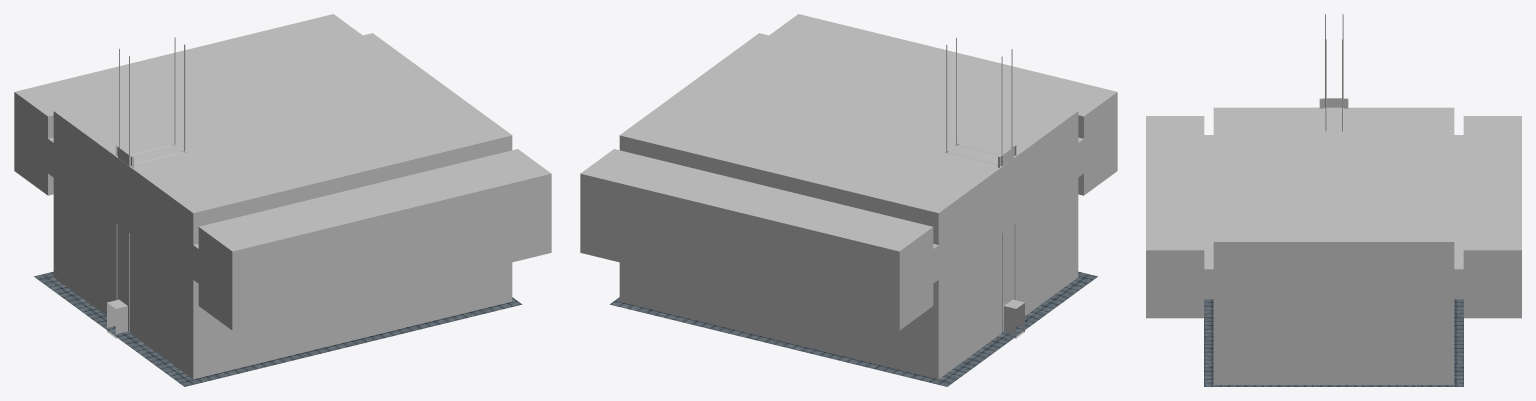
File: Walls.fbx
The picture shows the model from 3 angles, left to right: view 1: azimuth 30°, elevation 25°; view 2: azimuth 150°, elevation 25°; view 3: azimuth 270°, elevation 25°; orthographic projection. The views are drawn at different scales.
Parts seen in each view (by area): view 1: cube3, grid, polymsh_detached2; view 2: cube3, grid, polymsh_detached2; view 3: cube3, grid.
Part boxes in pixels (<box>): cube3: <box>14,14,551,379</box>; grid: <box>34,271,521,386</box>; polymsh_detached2: <box>107,144,133,338</box>; cube3: <box>580,14,1117,379</box>; grid: <box>610,271,1097,386</box>; polymsh_detached2: <box>998,144,1024,338</box>; cube3: <box>1146,107,1521,384</box>; grid: <box>1204,299,1463,386</box>.
Bounding box in the file's own units: 16.98 × 13.45 × 18.98.
